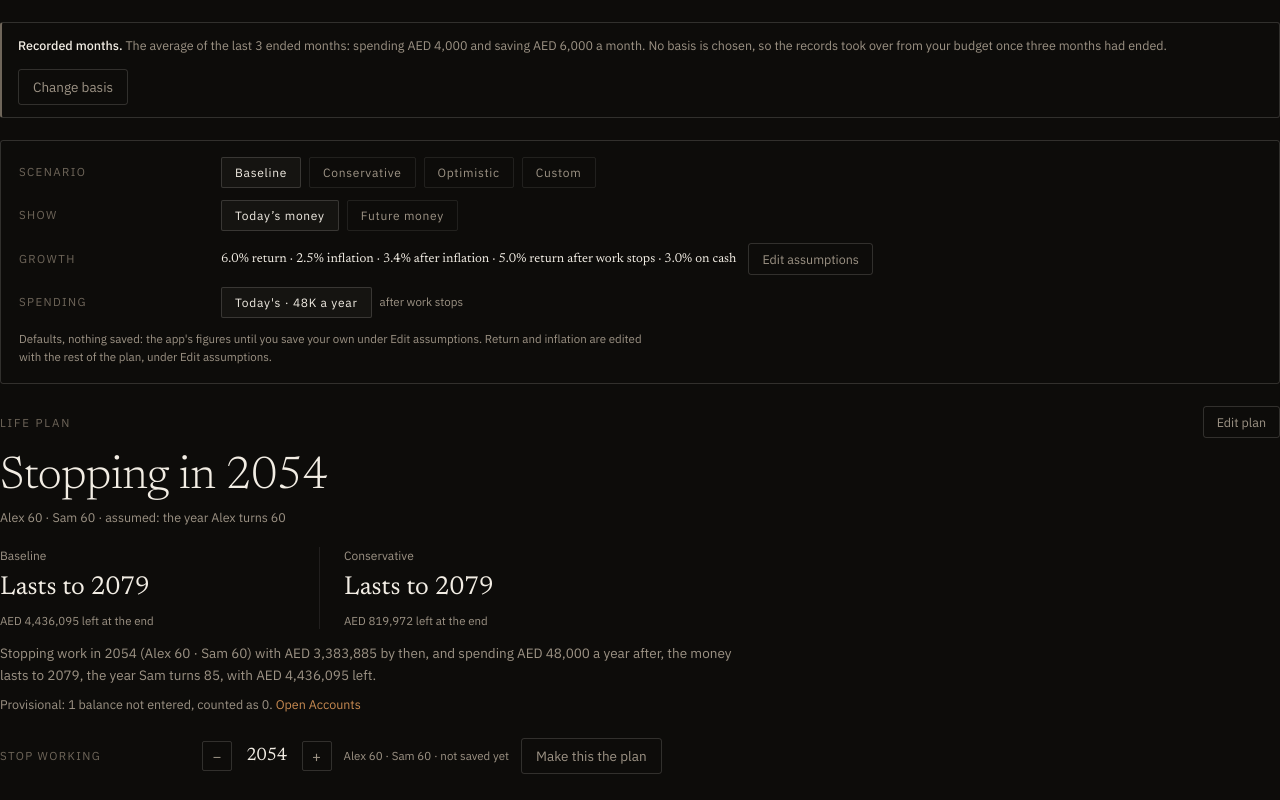
Test: LifePlan: the one drawer and the costs after work › opens the plan's drawer at its growth figures from Edit assumptions
What coordinates should you click on to do the following:
click the button "Edit assumptions"
I would click on:
 (811, 259)
Its box is [748,243,873,275].
(page scrolled)
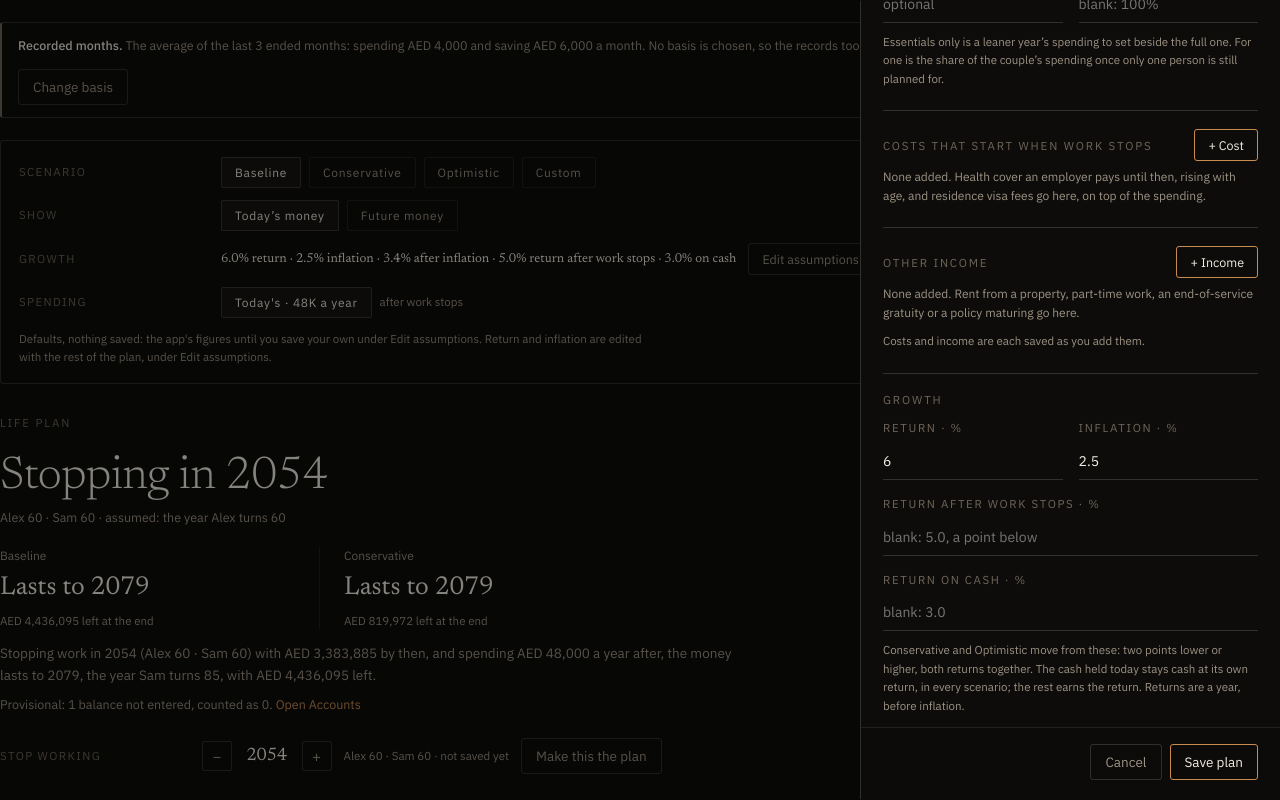
Expected: the dialog "Life plan" is shown, [860,0,1279,799]
